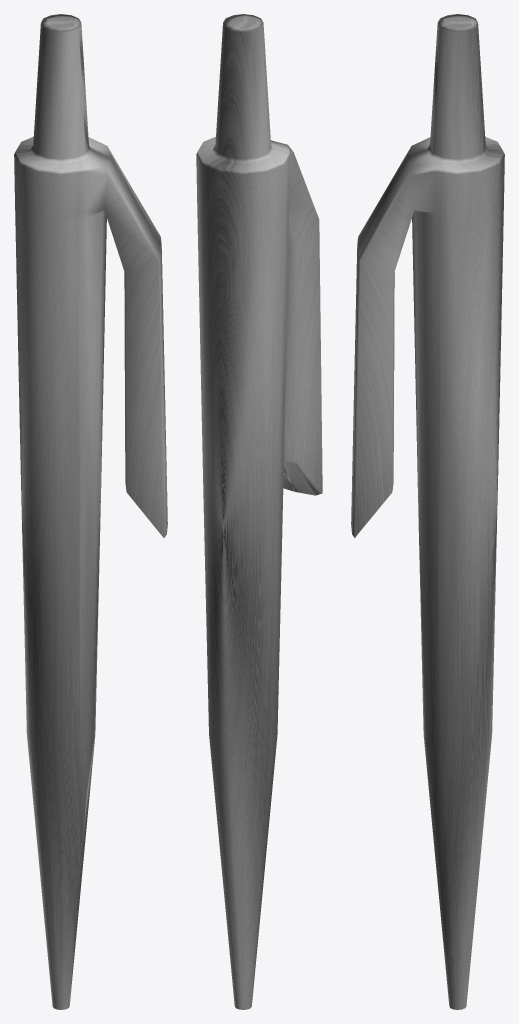
Rendered from pen.fbx.
3 renders of one model, left to right at view 1: azimuth 90°, elevation 25°; view 2: azimuth 150°, elevation 25°; view 3: azimuth 270°, elevation 25°, orthographic.
Visible parts, largest first — view 1: pen; view 2: pen; view 3: pen.
Part boxes in pixels (x1,y1,x2,y2): pen: (14, 14, 167, 1009); pen: (196, 14, 322, 1009); pen: (351, 14, 504, 1009).
Size of the model in its own units: 0.0129 by 0.147 by 0.0208.
